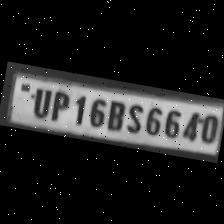0: (196, 110, 222, 146)
1: (66, 90, 90, 126)
4: (180, 106, 202, 142)
6: (82, 93, 108, 129), (158, 105, 183, 140), (140, 102, 164, 138)
B: (103, 96, 127, 132)
P: (46, 87, 72, 123)
S: (122, 99, 146, 135)
U: (26, 84, 54, 119)
